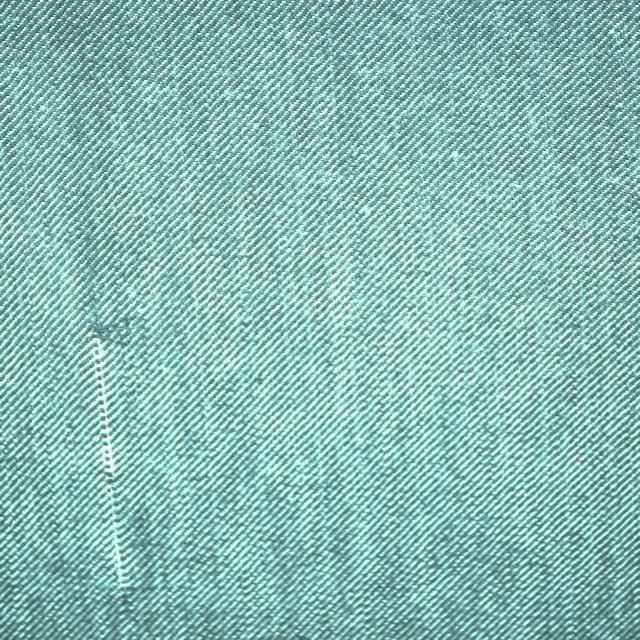Thread_other: (10, 88, 264, 640)
